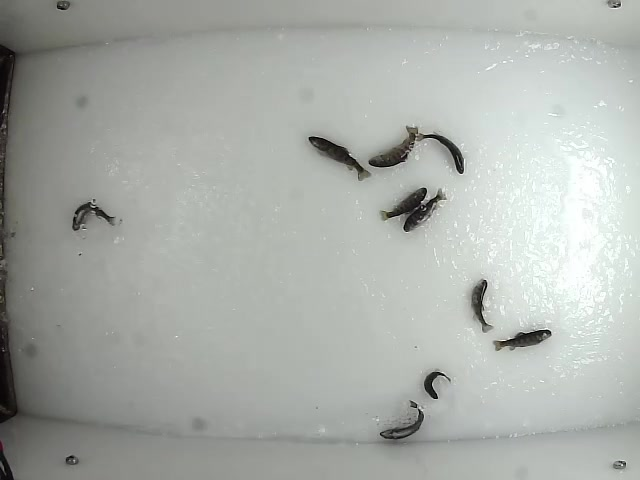fish: (307, 134, 372, 183), (364, 124, 422, 168), (399, 187, 449, 235), (414, 131, 464, 176), (377, 399, 425, 442), (377, 189, 428, 224), (489, 327, 552, 353), (69, 199, 117, 232), (469, 279, 497, 334), (422, 368, 453, 401)
